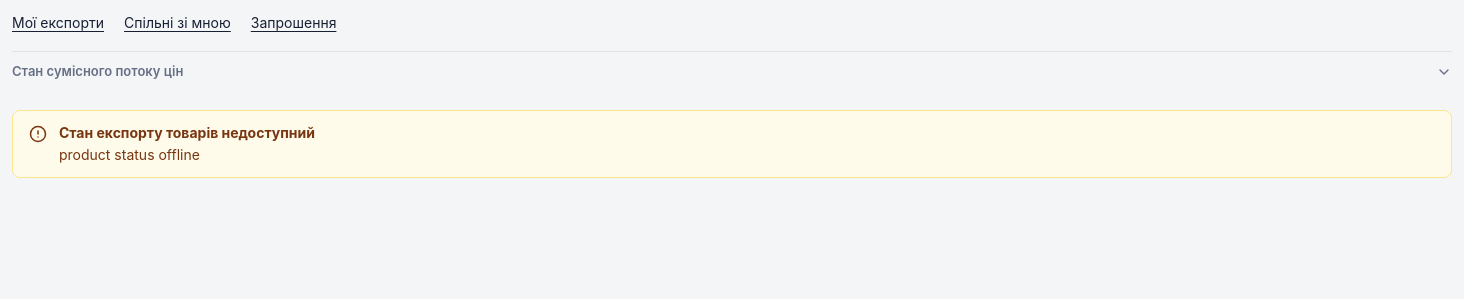
Test: keeps price and product status failures independent and unknown counts distinct from zero
Click the heading "Стан сумісного потоку цін".
click(98, 71)  # box left=12, top=63, right=1452, bottom=80
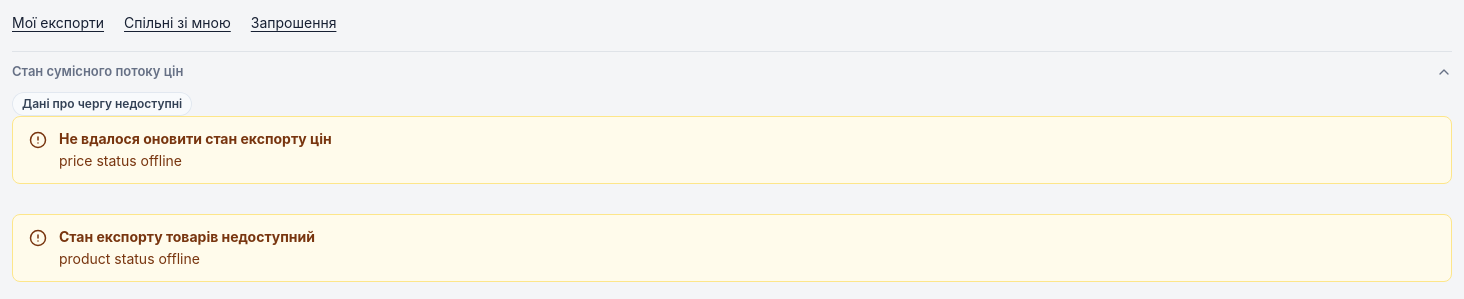
Expected: the link "Мої експорти" is shown, left=12, top=12, right=104, bottom=33
Expected: the text "Дані про чергу недоступні" is shown, left=12, top=92, right=192, bottom=116
